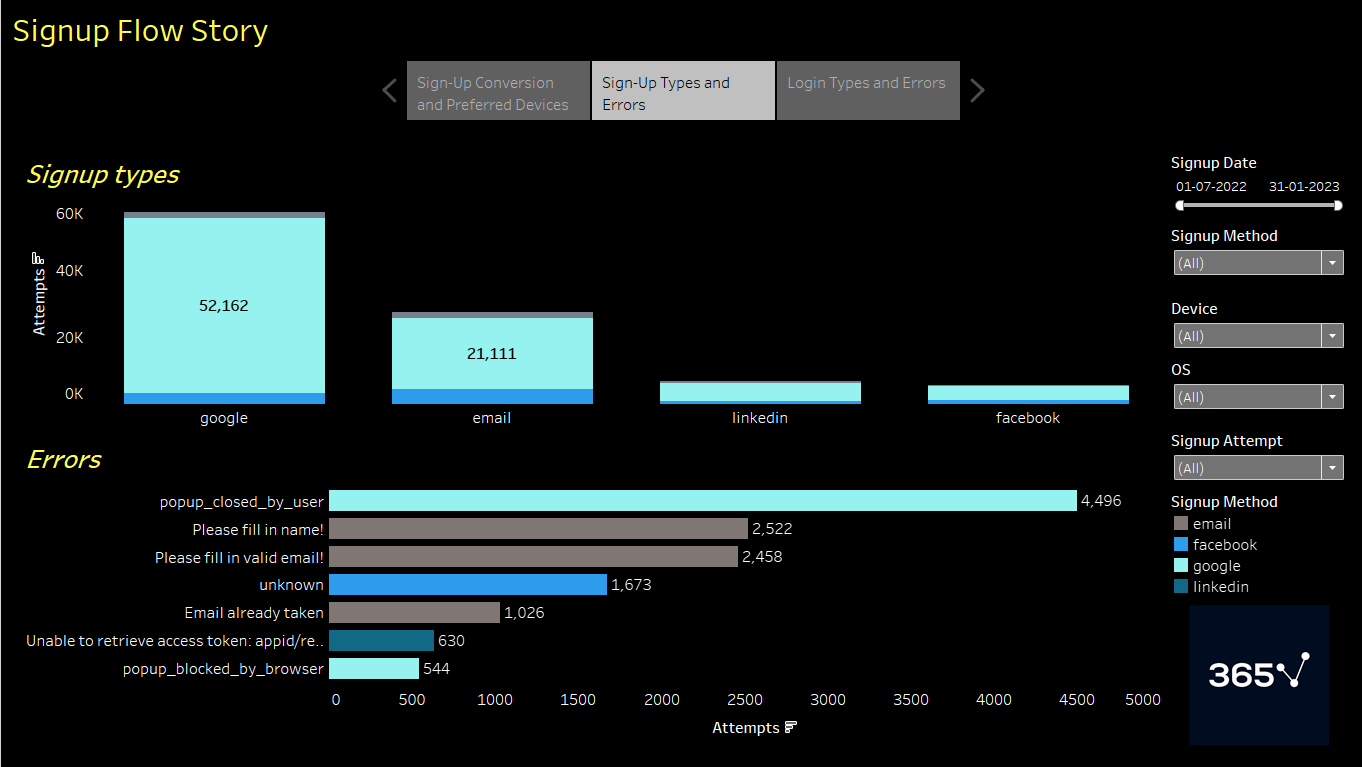

The page's visual inventory and layout, read from the dashboard file:
{"tool":"tableau","page":{"name":"Dashboard 2","canvas":[1350,617],"ordinal":1},"visuals":[{"type":"worksheet","title":"Signup types","mark":"Automatic","rows":["Calculation_495395959871774722"],"cols":["signup_method"],"box":[8,8,1150,285]},{"type":"filter","title":"Signup types","param":"[federated.1qsjbwr0db1gss15xbih71pdf0zh].[none:signup_date:qk]","box":[1158,8,184,73]},{"type":"filter","title":"Signup types","param":"[federated.1qsjbwr0db1gss15xbih71pdf0zh].[none:signup_method:nk]","box":[1158,81,184,73]},{"type":"filter","title":"Signup types","param":"[federated.1qsjbwr0db1gss15xbih71pdf0zh].[none:device:nk]","box":[1158,154,184,61]},{"type":"filter","title":"Signup types","param":"[federated.1qsjbwr0db1gss15xbih71pdf0zh].[Session Os (group)]","box":[1158,215,184,71]},{"type":"filter","title":"Signup types","param":"[federated.1qsjbwr0db1gss15xbih71pdf0zh].[none:signup_attempt:nk]","box":[1158,286,184,61]},{"type":"worksheet","title":"Errors","mark":"Automatic","cols":["Calculation_495395959871774722"],"box":[8,293,1150,316]},{"type":"legend","title":"Errors","param":"[federated.1qsjbwr0db1gss15xbih71pdf0zh].[none:signup_method:nk]","box":[1158,347,184,114]},{"type":"image","param":"C:/Users/singh/Downloads/sql+tableau.twb Files/Image/0x0.png","box":[1158,461,184,148]}]}

Visuals, with their boxes on the page's 1350x617 design canvas (x1, y1, x2, y2). These are canvas units, not pixel positions in the 1362x767 screenshot, which may show the page scaled, cropped or inside an application window:
"Signup types" worksheet: 8,8,1158,293
"Signup types" filter: 1158,8,1342,81
"Signup types" filter: 1158,81,1342,154
"Signup types" filter: 1158,154,1342,215
"Signup types" filter: 1158,215,1342,286
"Signup types" filter: 1158,286,1342,347
"Errors" worksheet: 8,293,1158,609
"Errors" legend: 1158,347,1342,461
image: 1158,461,1342,609
